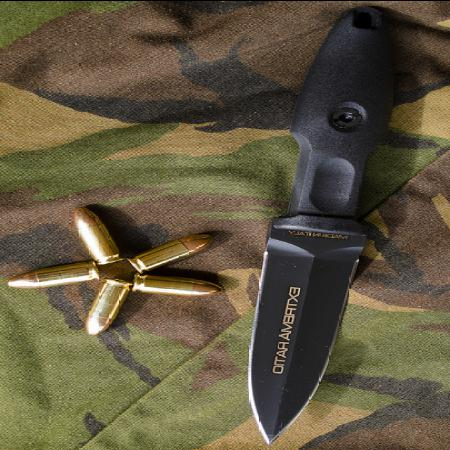long weapon: (237, 213, 386, 448)
